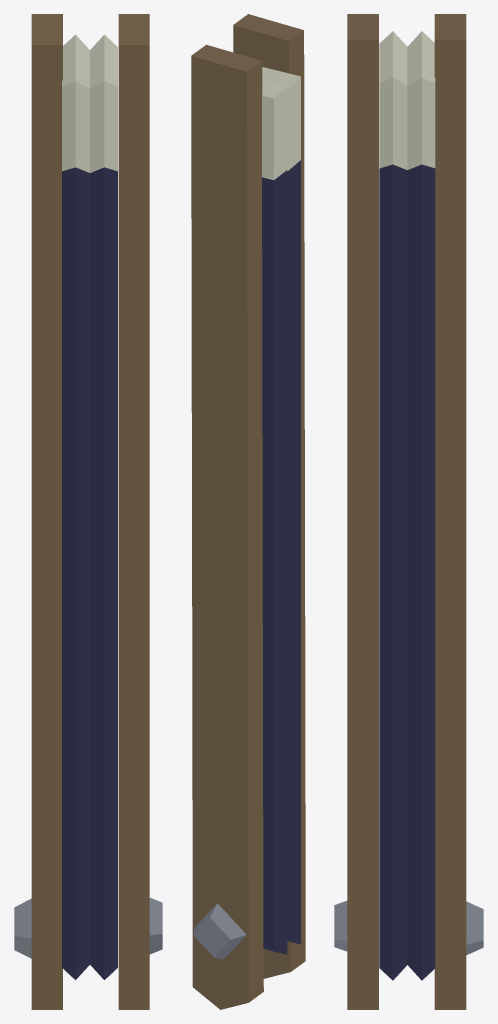
The model's file is samurai_SM_Prop_Fan_Closed_01.gltf.
The picture shows the model from 3 angles, left to right: view 1: azimuth 90°, elevation 25°; view 2: azimuth 150°, elevation 25°; view 3: azimuth 270°, elevation 25°; orthographic projection. The views are drawn at different scales.
Parts seen in each view (by area): view 1: SM_Prop_Fan_Closed_01; view 2: SM_Prop_Fan_Closed_01; view 3: SM_Prop_Fan_Closed_01.
Part boxes in pixels (box(x1,y1,x2,y2)): SM_Prop_Fan_Closed_01: box(14, 14, 162, 1009); SM_Prop_Fan_Closed_01: box(191, 14, 305, 1009); SM_Prop_Fan_Closed_01: box(334, 14, 483, 1009).
Size of the model in its own units: 0.0394 by 0.3873 by 0.0531.
Materials: 1 (1 with a texture image).
